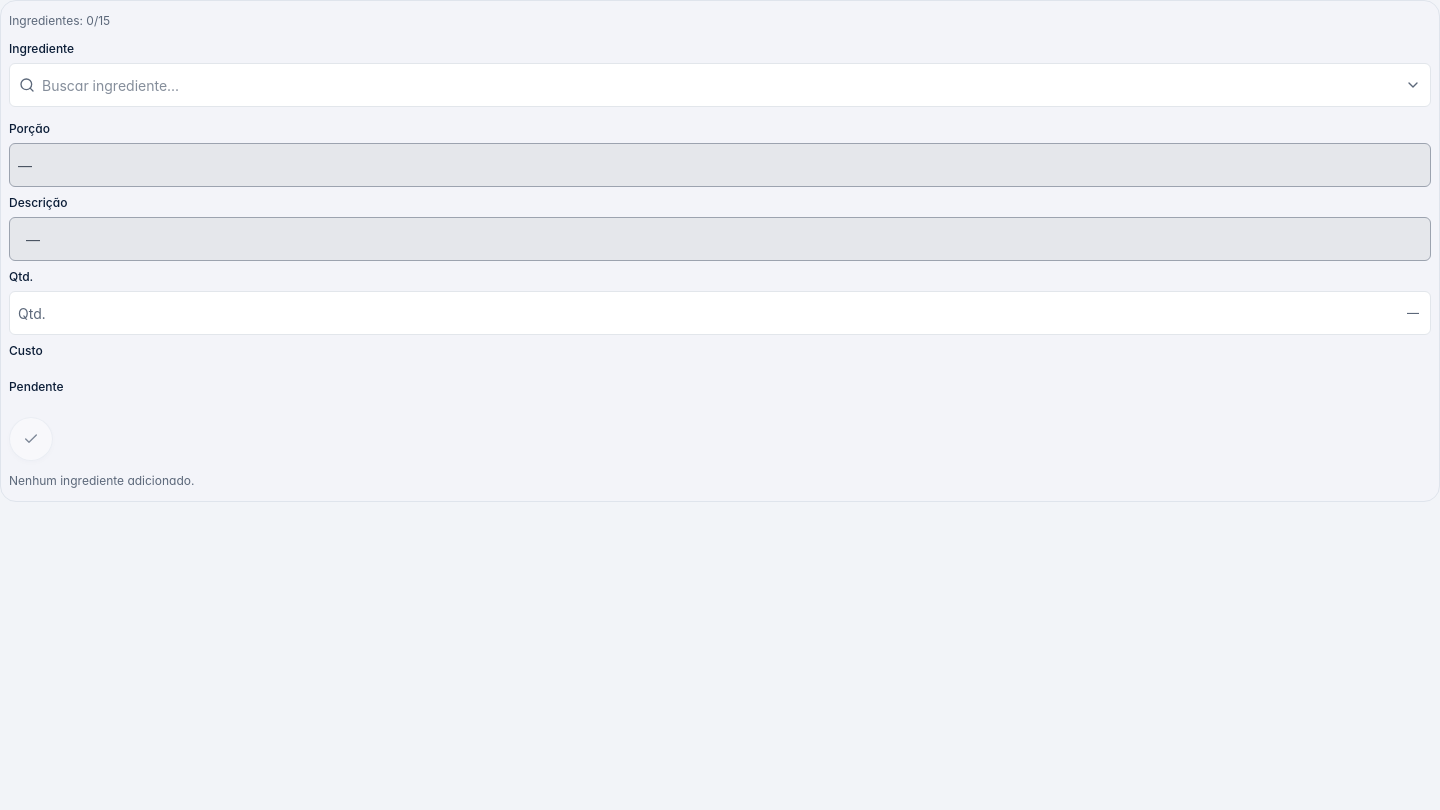
reúne insumos e preparações na mesma busca e informa a unidade
Click the dropdown labelled "ingrediente" at (720, 85), box [9,63,1431,107]
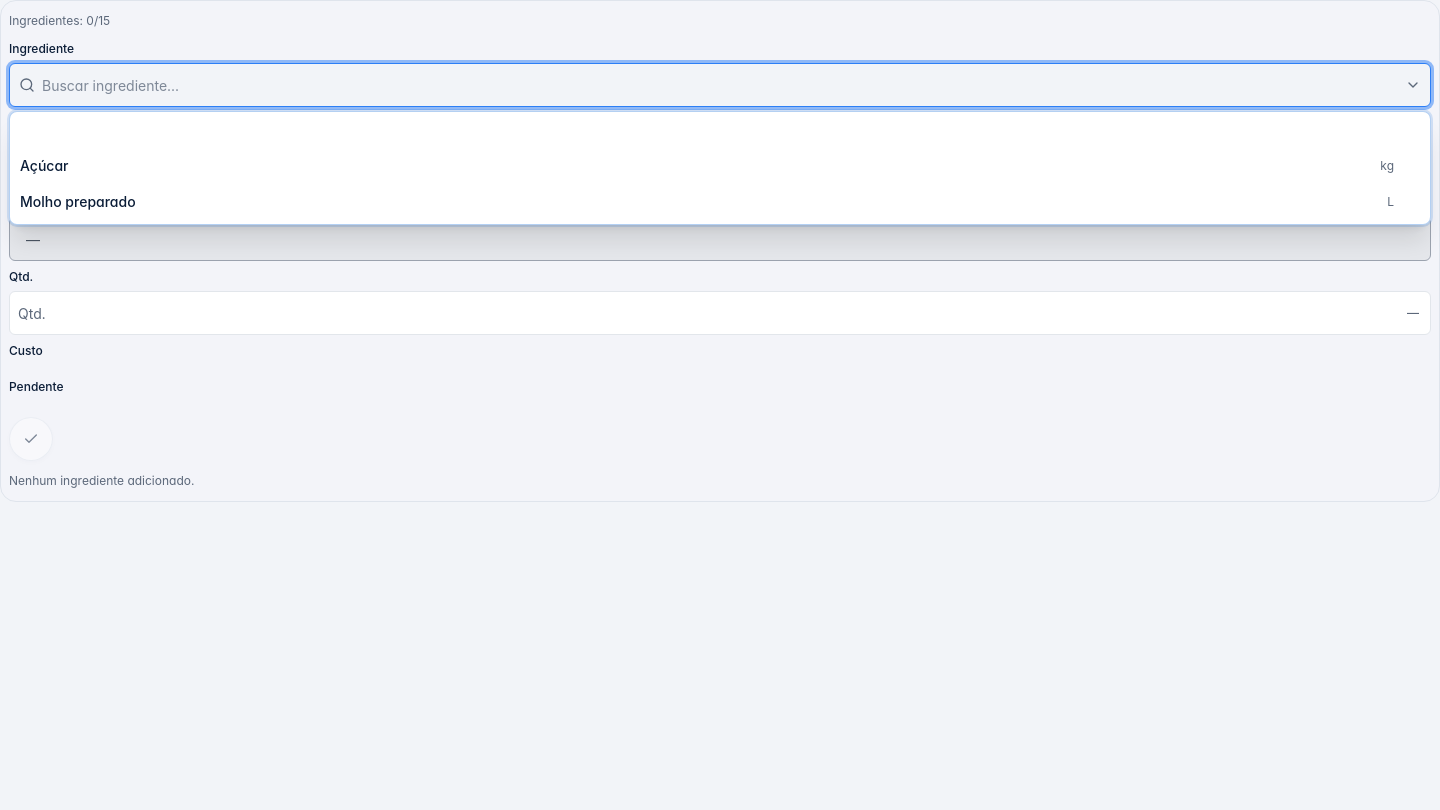
Result: the option "Açúcar kg" is shown at [20,157,1394,174]
Result: the option "Molho preparado L" is shown
Click the option "Molho preparado L" at (78, 202), box [20,193,1394,210]
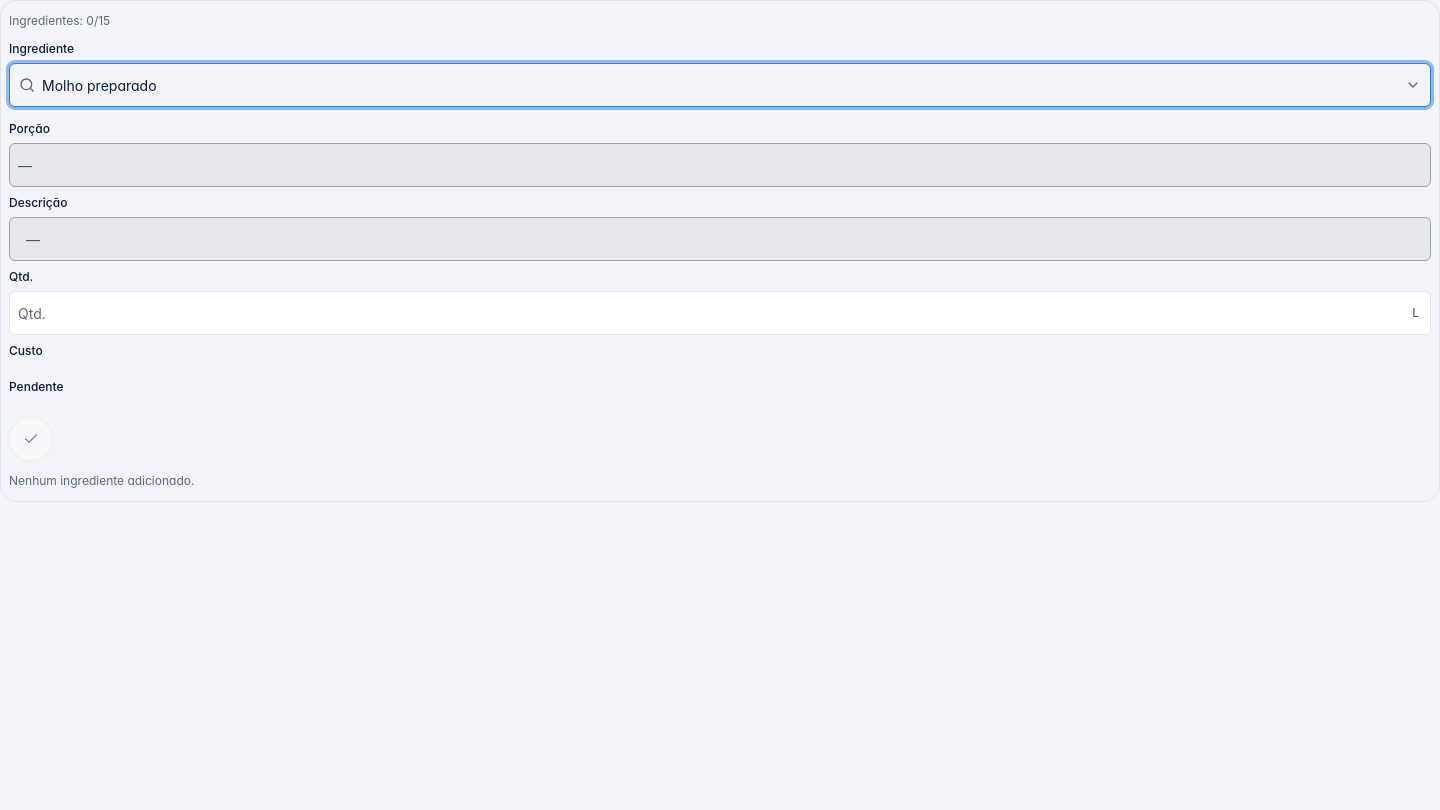
Expected: the text "L" is shown, [1412,305,1419,320]
Type "2,5" into the field named "Quantidade do ingrediente" at (720, 313), box [9,291,1431,335]
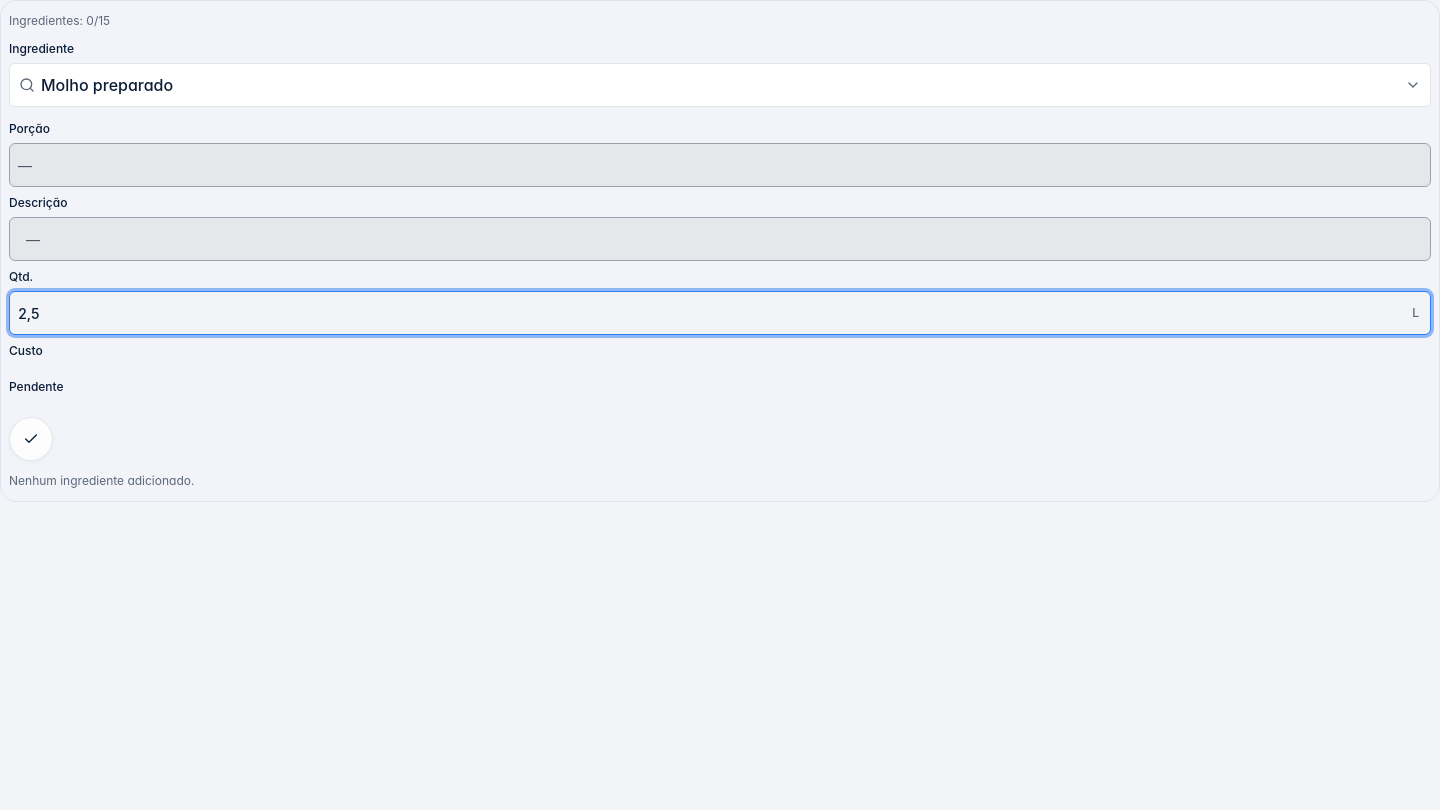
Press Tab
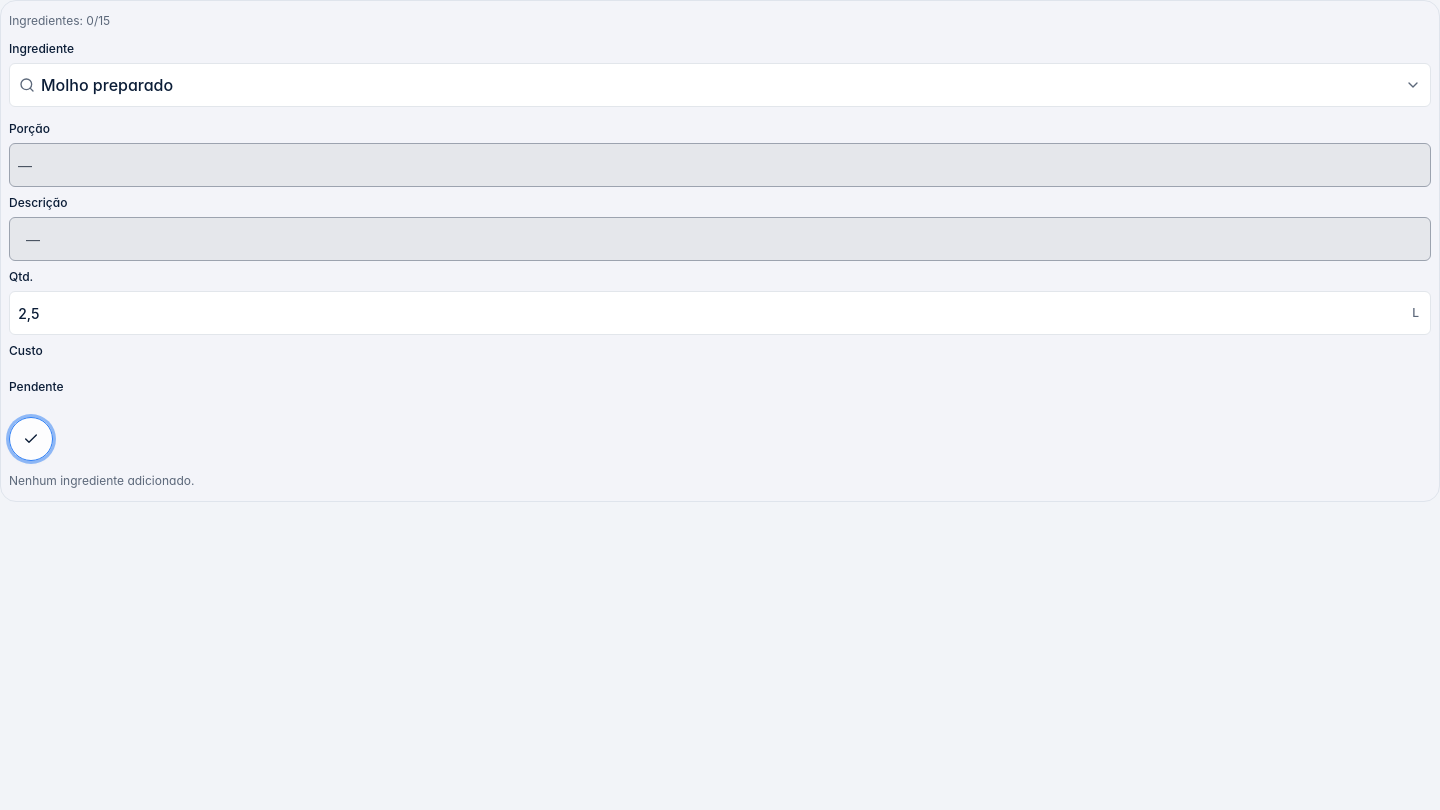
Click the button named "Adicionar ingrediente" at (31, 439), box [9,417,53,461]
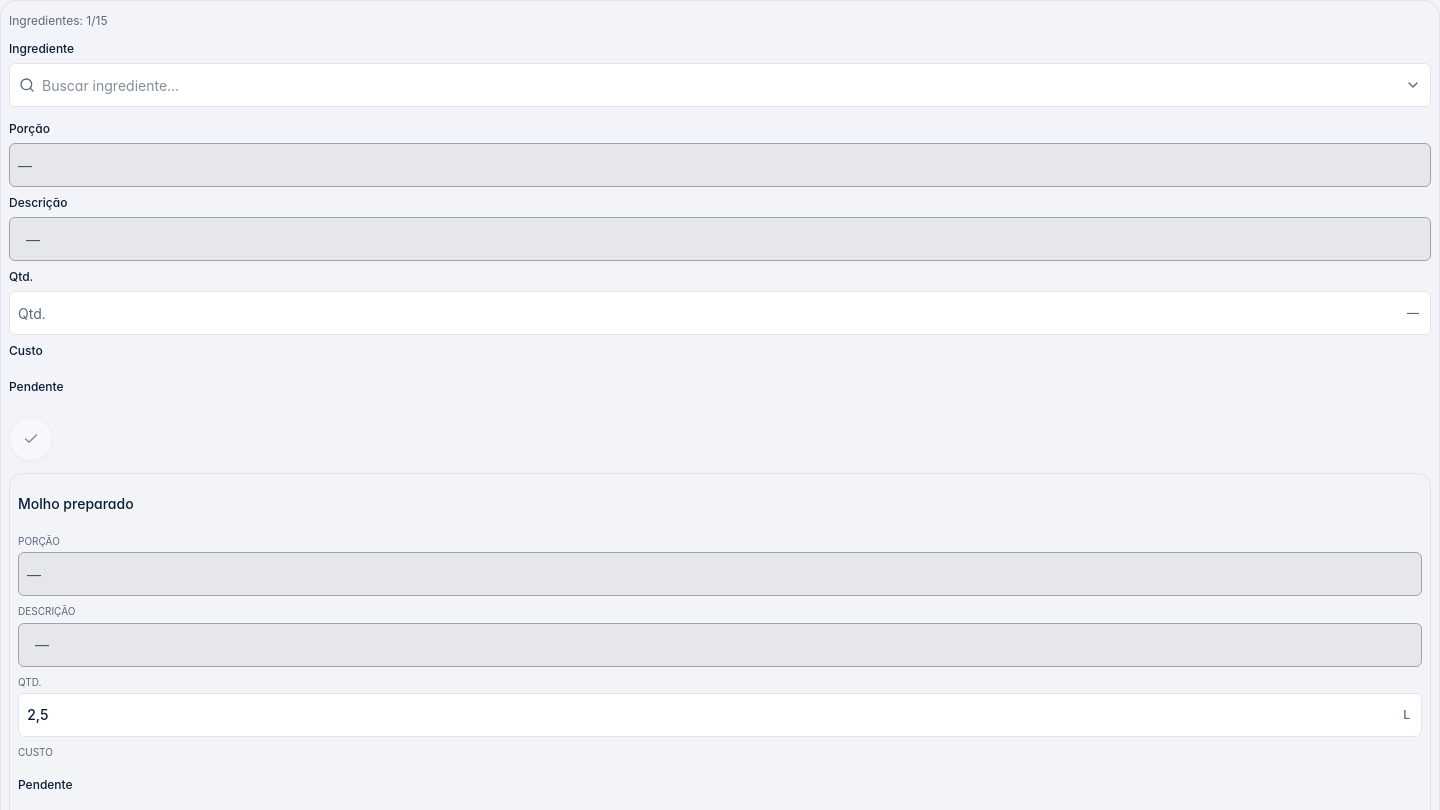
Expected: the field named "Descrição da porção de Molho preparado" is empty, [18,623,1422,667]
Result: the text "Molho preparado" is shown at [18,495,134,512]
Result: the field named "Quantidade de Molho preparado" holds "2,5" at [18,693,1422,737]
